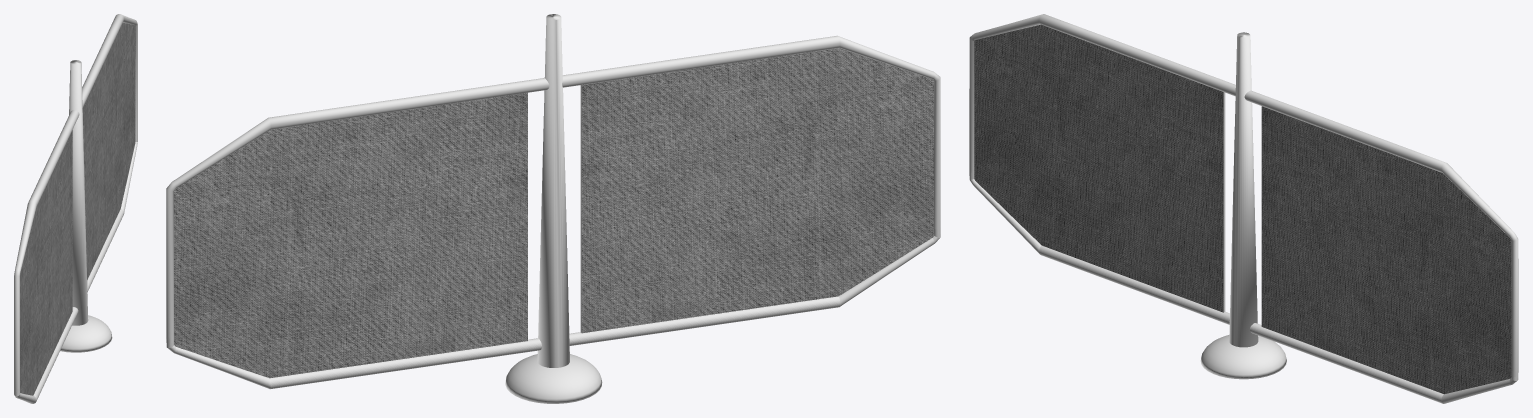
File: tourniquet.fbx
3 views of the same model, side by side, from view 1: azimuth 30°, elevation 25°; view 2: azimuth 150°, elevation 25°; view 3: azimuth 270°, elevation 25° (orthographic). The views are drawn at different scales.
Visible parts, largest first — view 1: Cube, Sphere; view 2: Cube, Sphere; view 3: Cube, Sphere.
Part boxes in pixels (x1,y1,x2,y2): Cube: [14, 14, 137, 403]; Sphere: [60, 315, 112, 352]; Cube: [166, 14, 940, 389]; Sphere: [505, 354, 602, 403]; Cube: [969, 14, 1518, 403]; Sphere: [1200, 335, 1286, 379].
Bounding box in the file's own units: 413 × 309 × 472.
